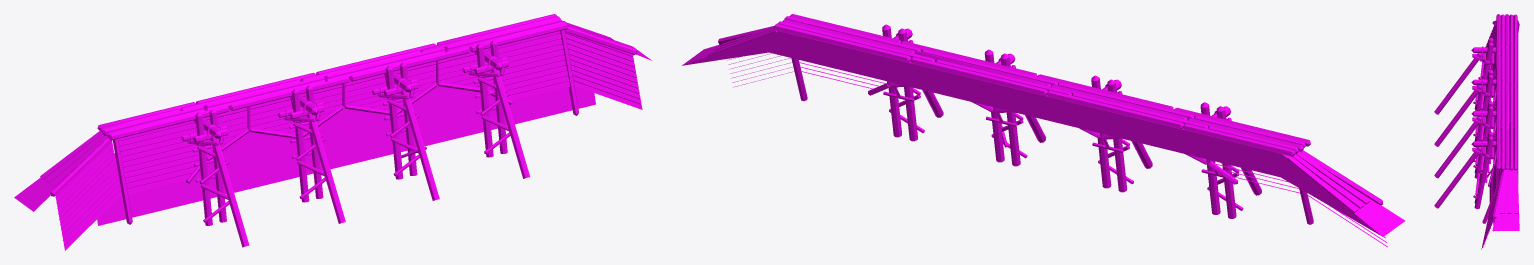
The model's file is bridge_edge_wooden.glb.
3 views of the same model, side by side, from view 1: azimuth 30°, elevation 25°; view 2: azimuth 150°, elevation 25°; view 3: azimuth 270°, elevation 25° (orthographic). The views are drawn at different scales.
Visible parts, largest first — view 1: Cube_001; view 2: Cube_001; view 3: Cube_001.
Part boxes in pixels (box(x1,y1,x2,y2)): Cube_001: box(14, 14, 651, 250); Cube_001: box(682, 14, 1405, 247); Cube_001: box(1434, 14, 1519, 249).
Bounding box in the file's own units: 45 × 7.57 × 7.86.
